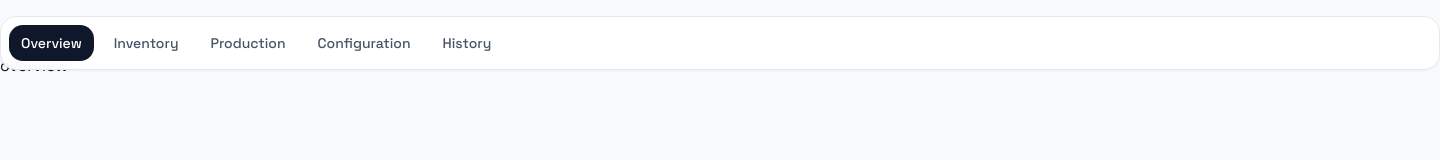
Test case: Edit item action switches to Configuration › handleEditItem sets tab to configuration
The width and height of the screenshot is (1440, 160).
Expected: the text with test id "active-tab" reads "overview", x1=0 y1=55 x2=68 y2=76
Click the tab "Configuration": {"x": 364, "y": 43} x1=306 y1=25 x2=422 y2=61
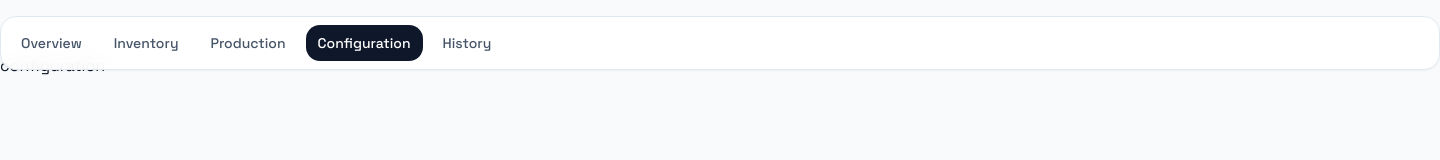
Expected: the text with test id "active-tab" reads "configuration", x1=0 y1=55 x2=105 y2=76
